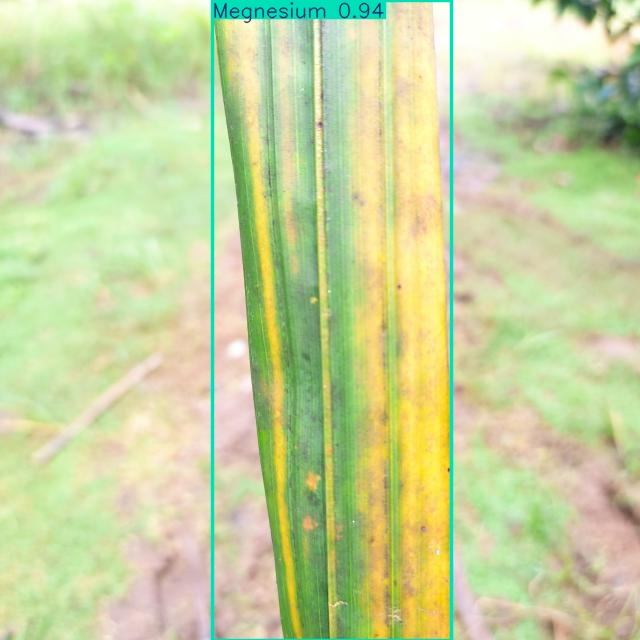Megnesium: (213, 0, 451, 640)
